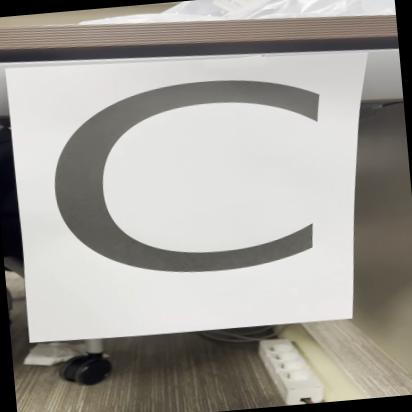seat: (13, 40, 370, 340)
